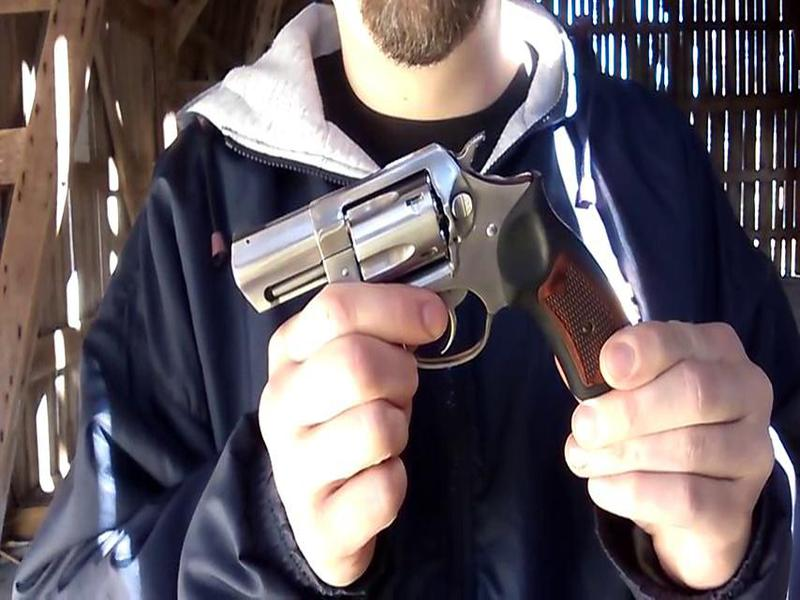Revolver: (241, 145, 622, 404)
